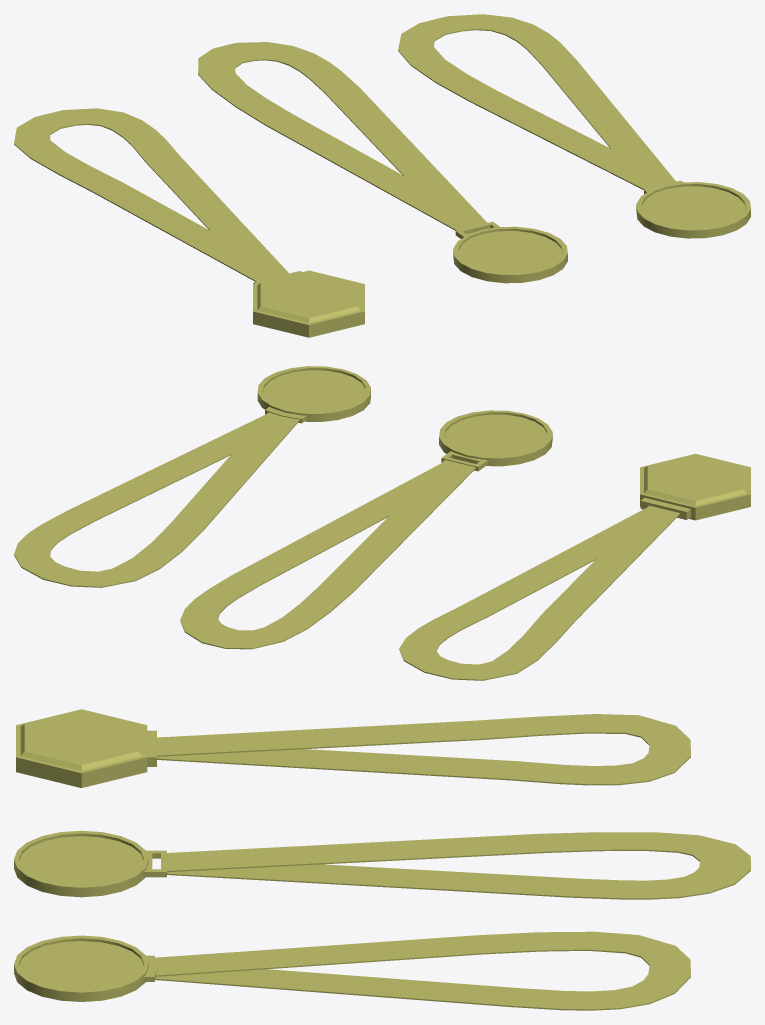
The model's file is memal_GRP_LP.fbx.
3 renders of one model, top to bottom at view 1: azimuth 30°, elevation 25°; view 2: azimuth 150°, elevation 25°; view 3: azimuth 270°, elevation 25°, orthographic. The views are drawn at different scales.
Parts seen in each view (by area): view 1: medal3_3_LP, medal1_3_LP, medal2_1_LP, medal2_2_LP, medal1_1_LP, medal3_1_LP; view 2: medal3_3_LP, medal1_3_LP, medal2_1_LP, medal2_2_LP, medal3_1_LP, medal1_1_LP; view 3: medal3_3_LP, medal1_3_LP, medal2_1_LP, medal2_2_LP, medal3_1_LP, medal1_1_LP.
Part boxes in pixels (x1,y1,x2,y2): medal3_3_LP: [198, 42, 487, 230]; medal1_3_LP: [398, 14, 675, 189]; medal2_1_LP: [14, 108, 288, 281]; medal2_2_LP: [253, 270, 364, 337]; medal1_1_LP: [636, 182, 750, 238]; medal3_1_LP: [453, 226, 567, 283]; medal3_3_LP: [180, 460, 475, 649]; medal1_3_LP: [14, 412, 299, 587]; medal2_1_LP: [399, 505, 680, 680]; medal2_2_LP: [640, 453, 750, 520]; medal3_1_LP: [439, 410, 552, 466]; medal1_1_LP: [257, 366, 370, 421]; medal3_3_LP: [167, 832, 750, 899]; medal1_3_LP: [155, 931, 690, 1010]; medal2_1_LP: [157, 714, 690, 785]; medal2_2_LP: [16, 709, 156, 787]; medal3_1_LP: [14, 830, 148, 897]; medal1_1_LP: [14, 935, 148, 1001].
Bounding box in the file's own units: 56.39 × 1.66 × 59.43.
